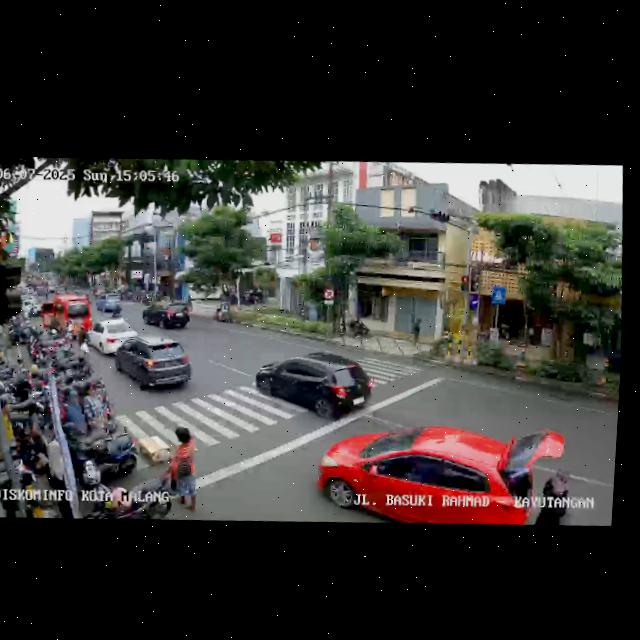car: (312, 410, 555, 537), (253, 343, 378, 425), (107, 329, 200, 397), (36, 290, 93, 340), (84, 316, 141, 360), (141, 298, 193, 335), (94, 292, 124, 317)
person: (161, 425, 203, 515)
